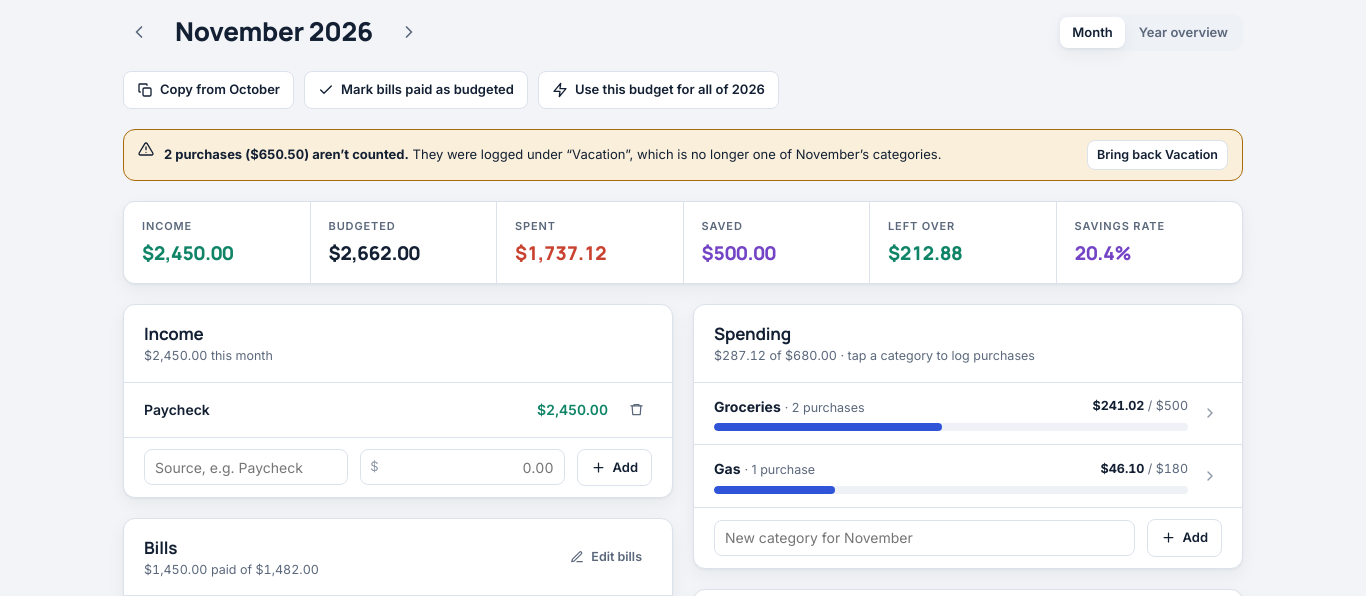
Scenario: budget page › shows purchases hidden in a dropped category and brings them back
This screenshot has width=1366, height=596.
Later steps or results of the test are not shown.
expect the message with class "banner" shows "2 purchases ($650.50)": met, box [123, 128, 1243, 181]
expect the message with class "banner" shows "“Vacation”": met, box [123, 128, 1243, 181]
Click the button "Bring back Vacation": [1158, 155] box [1087, 140, 1228, 170]
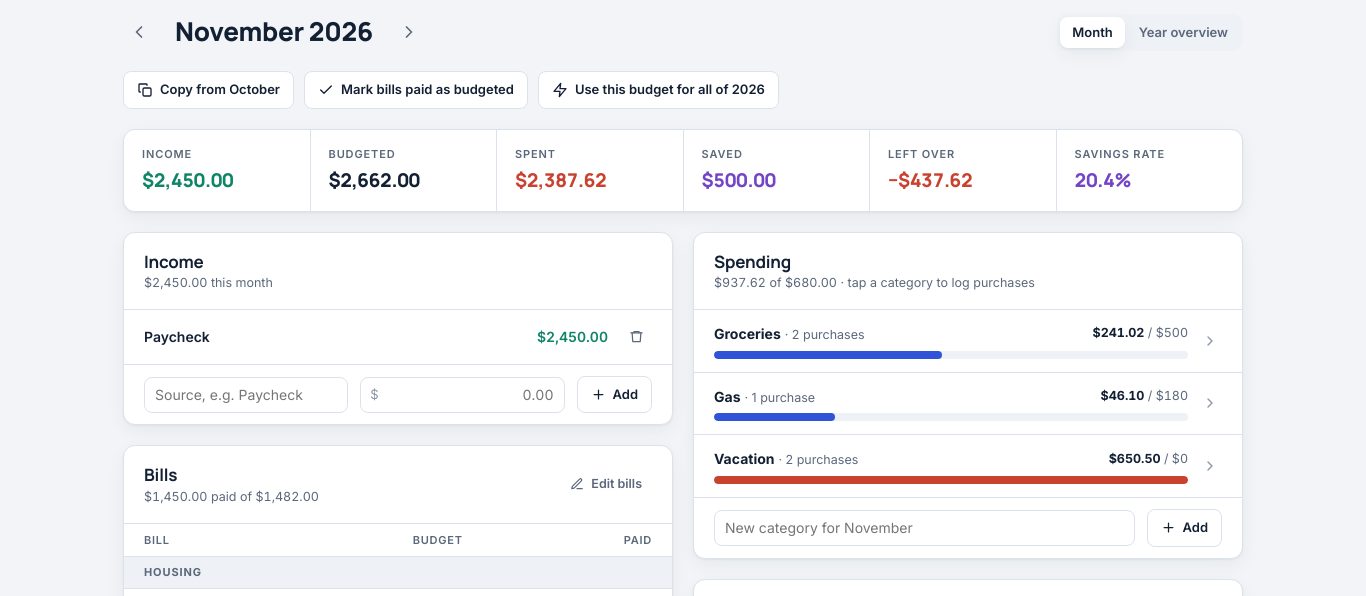
expect the button with class "cat-head" shows "2 purchases": met, box [694, 435, 1242, 497]
